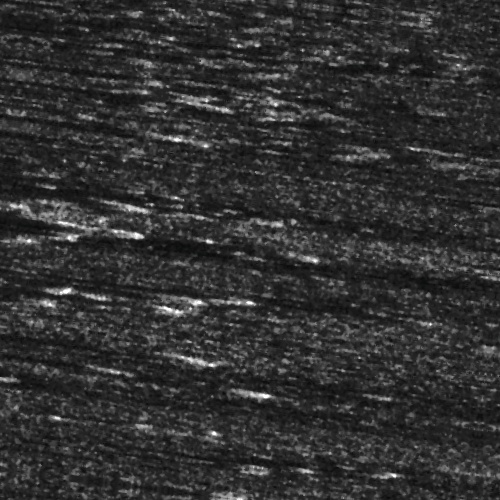object: (0, 224, 168, 265), (88, 140, 223, 153), (211, 293, 284, 306), (147, 358, 230, 367), (233, 384, 296, 393), (81, 380, 154, 387), (86, 213, 139, 222), (21, 322, 74, 329), (249, 463, 290, 472), (309, 455, 382, 460), (140, 108, 193, 113), (0, 404, 20, 417)
shadow: (0, 293, 247, 306), (0, 224, 63, 265), (0, 140, 155, 153), (0, 358, 188, 367), (108, 384, 264, 393), (0, 213, 112, 222), (181, 455, 345, 460), (185, 463, 269, 472), (37, 380, 117, 387), (93, 108, 166, 113), (0, 322, 48, 329), (434, 167, 500, 172)
